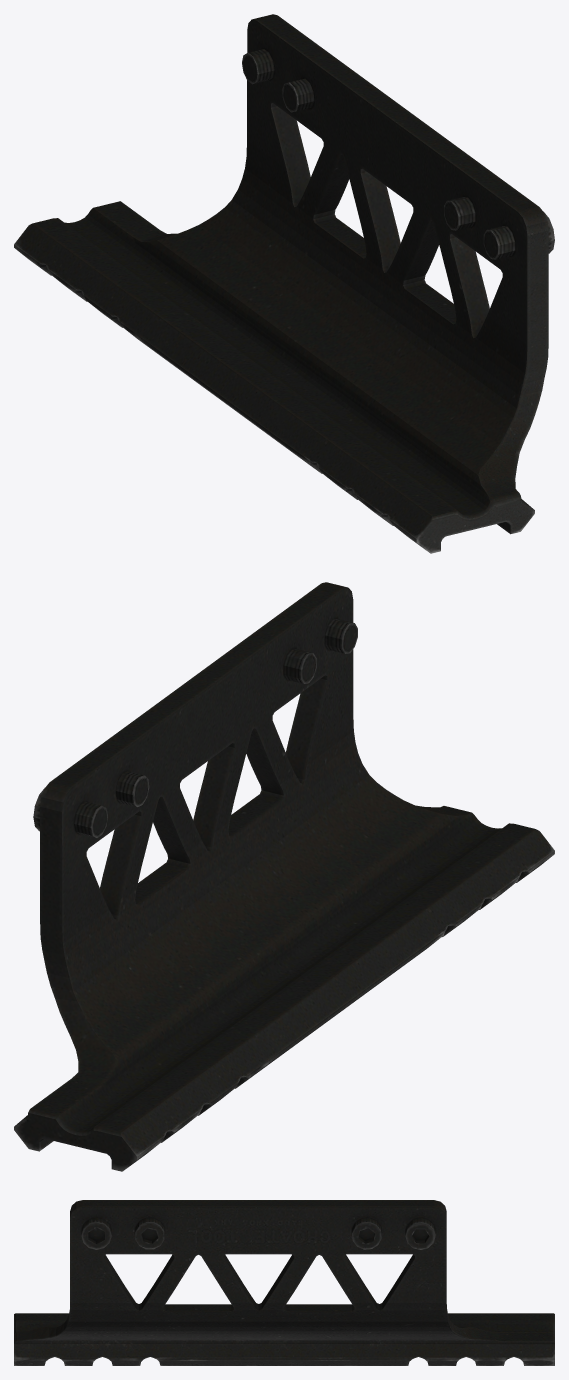
3 views of the same model, one above another, from view 1: azimuth 30°, elevation 25°; view 2: azimuth 150°, elevation 25°; view 3: azimuth 270°, elevation 25° (orthographic). The views are drawn at different scales.
Parts seen in each view (by area): view 1: TW_6415d33eda439c6a97048b5b_PZ_Import; view 2: TW_6415d33eda439c6a97048b5b_PZ_Import; view 3: TW_6415d33eda439c6a97048b5b_PZ_Import.
Boxes of the visible parts, box(x1,y1,x2,y2) form: TW_6415d33eda439c6a97048b5b_PZ_Import: box(14, 14, 554, 553); TW_6415d33eda439c6a97048b5b_PZ_Import: box(14, 582, 554, 1171); TW_6415d33eda439c6a97048b5b_PZ_Import: box(14, 1200, 554, 1365).
Size of the model in its own units: 0.0195 by 0.072 by 0.0267.
Materials: 1 (1 with a texture image).
